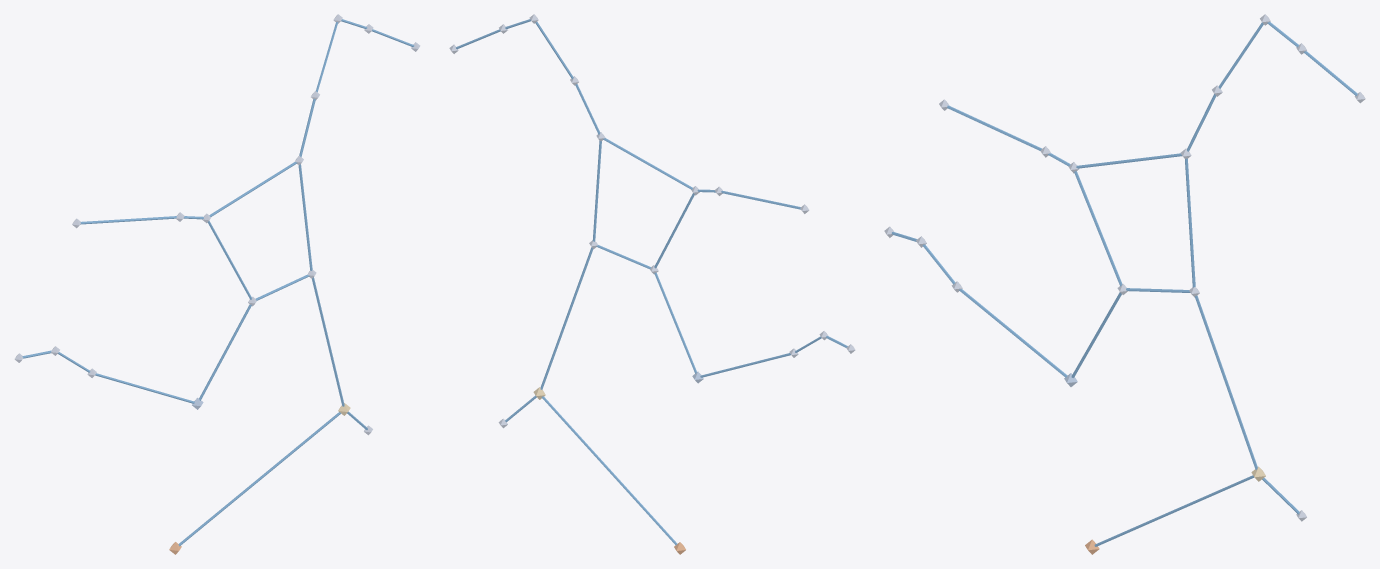
Rendered from constellation-her.glb.
3 views of the same model, side by side, from view 1: azimuth 30°, elevation 25°; view 2: azimuth 150°, elevation 25°; view 3: azimuth 330°, elevation 25° (orthographic). The views are drawn at different scales.
Size of the model in its own units: 2.88 by 3.41 by 0.3866.
